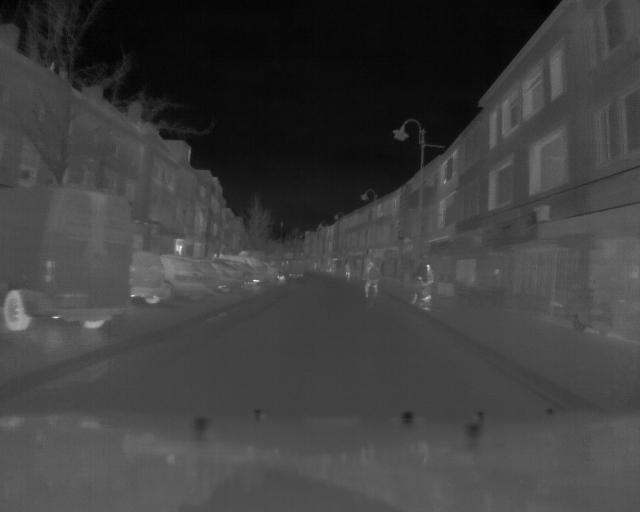car: (1, 184, 135, 332), (166, 252, 209, 307)
person: (359, 254, 383, 312), (412, 257, 435, 312), (342, 258, 352, 287)
